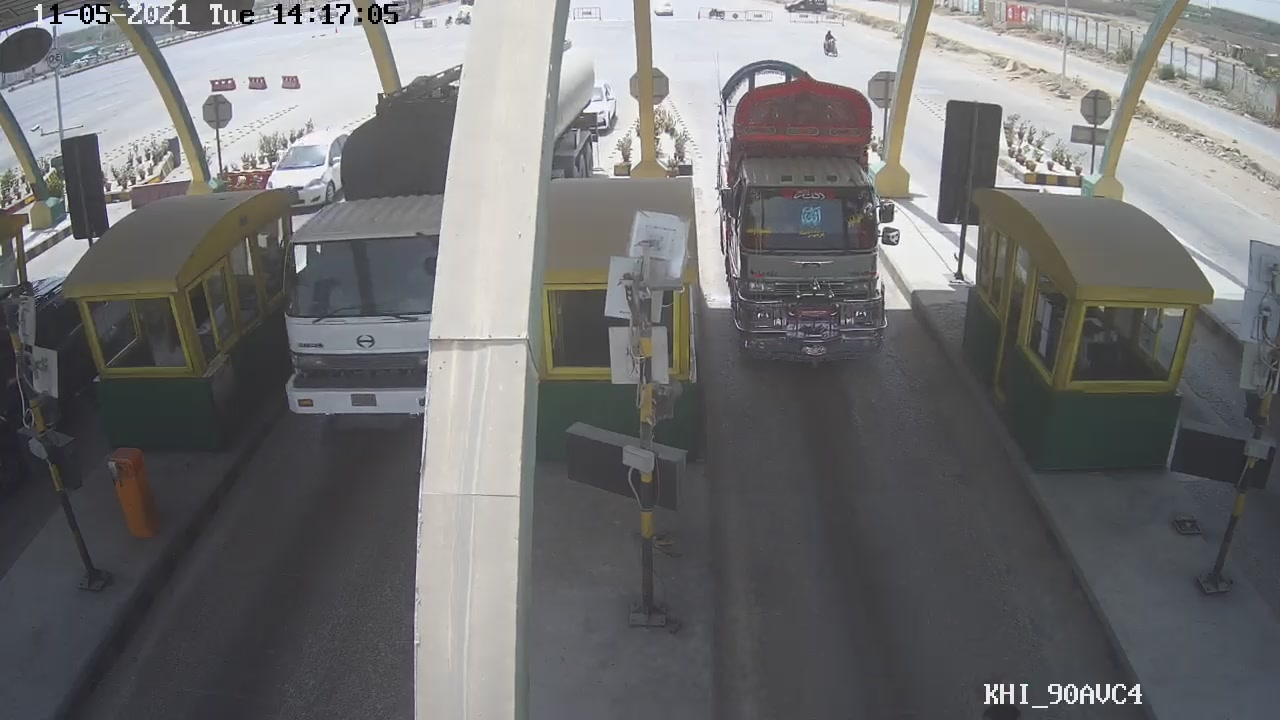F5: (702, 75, 906, 374)
